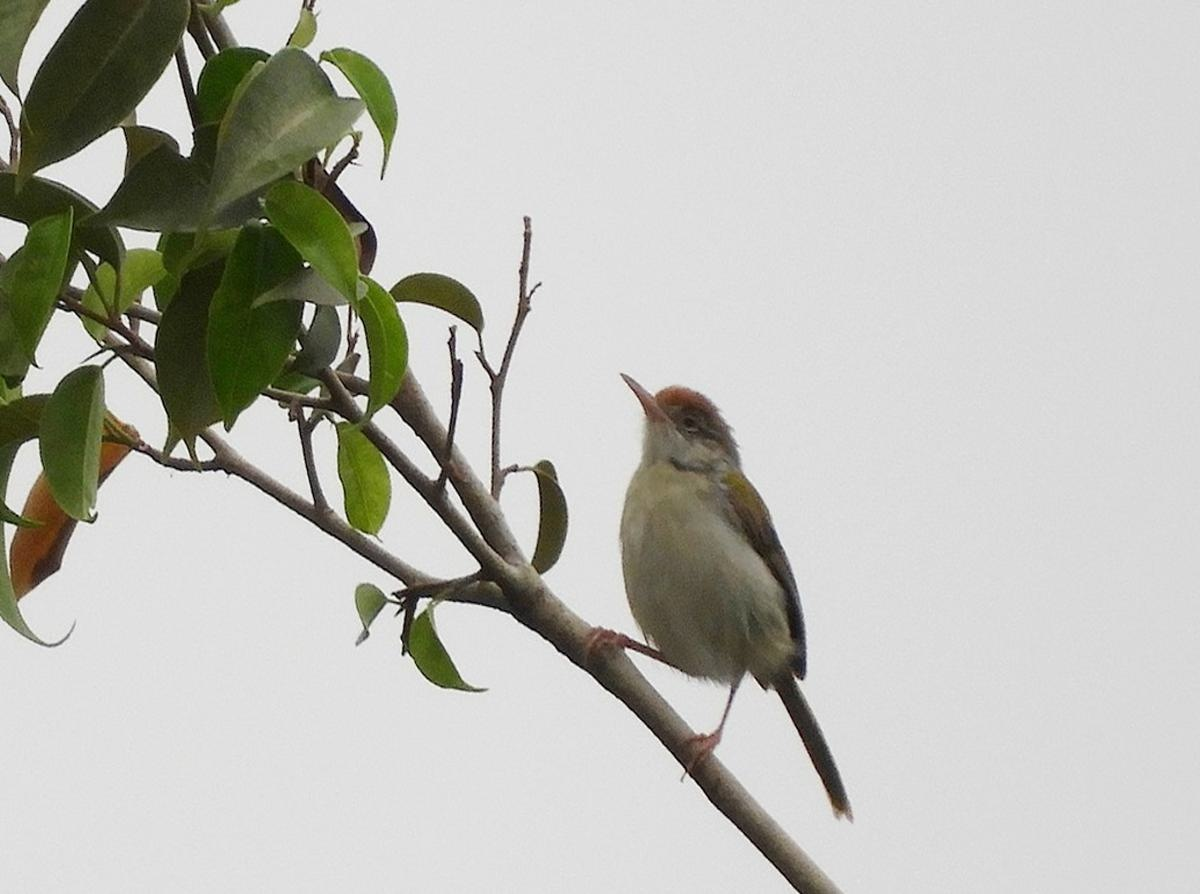tailorbird: (574, 351, 886, 831)
